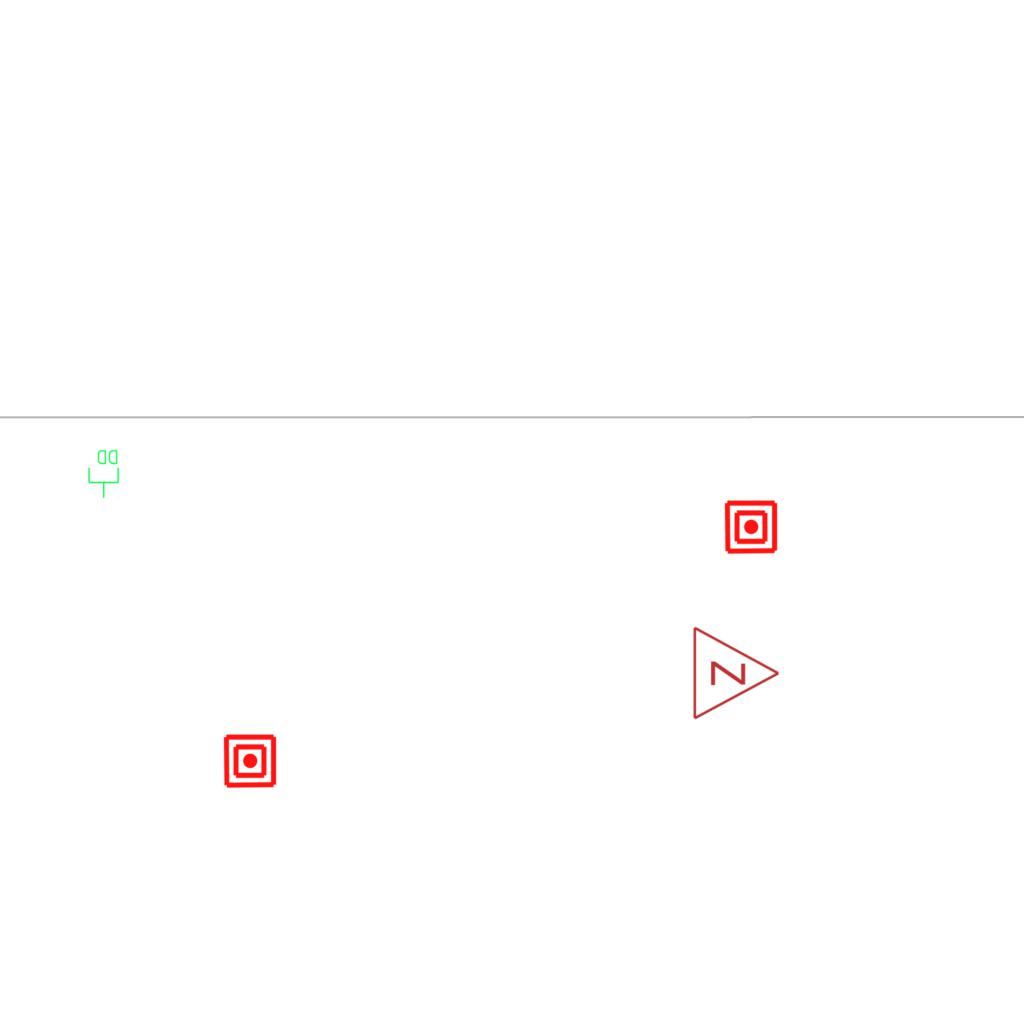Datenanschluss_zweifach: (87, 448, 121, 499)
NAM-Nichtautomatischer_Melder: (222, 733, 278, 789), (723, 499, 779, 555)
Zimmersignalleuchte: (686, 623, 786, 721)
